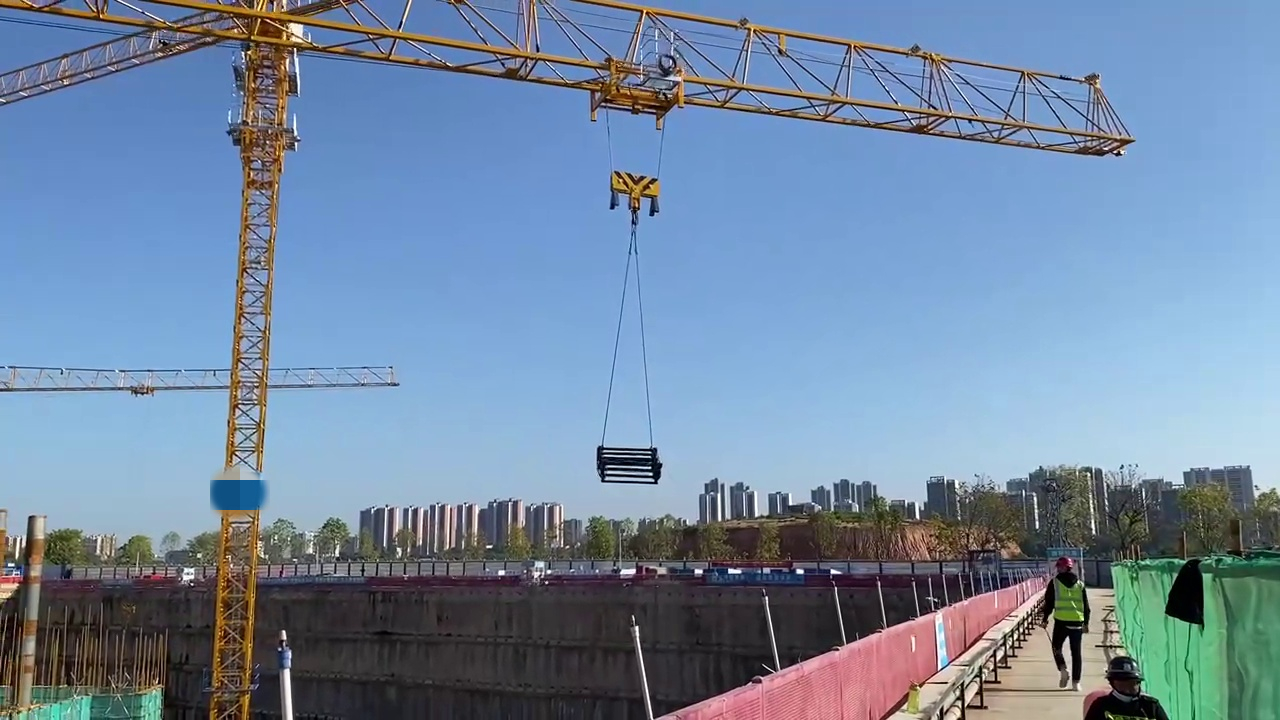fence: (639, 608, 936, 720), (940, 571, 1041, 660)
helmet: (1105, 657, 1145, 681), (1054, 556, 1071, 567)
hook: (605, 169, 662, 210)
person: (1043, 555, 1090, 696), (1084, 653, 1168, 720)
vest: (1053, 575, 1084, 623)
